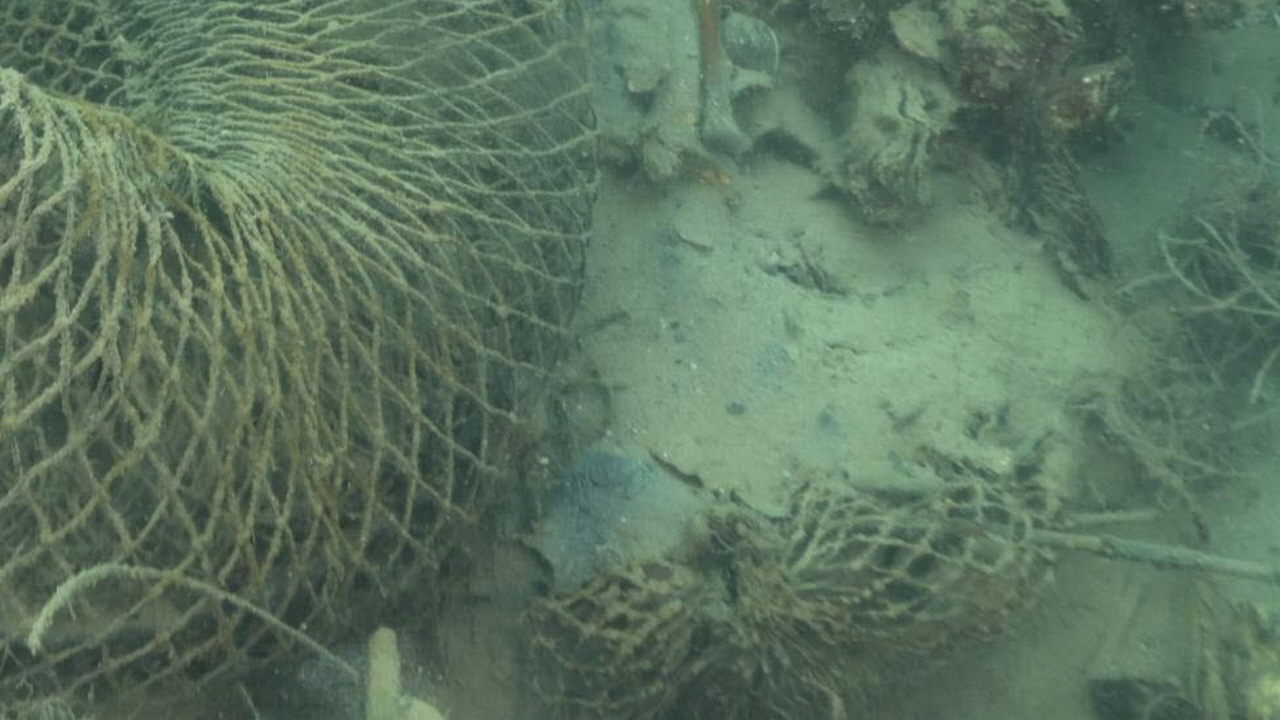fish net: (0, 0, 601, 720), (520, 448, 1062, 720)
